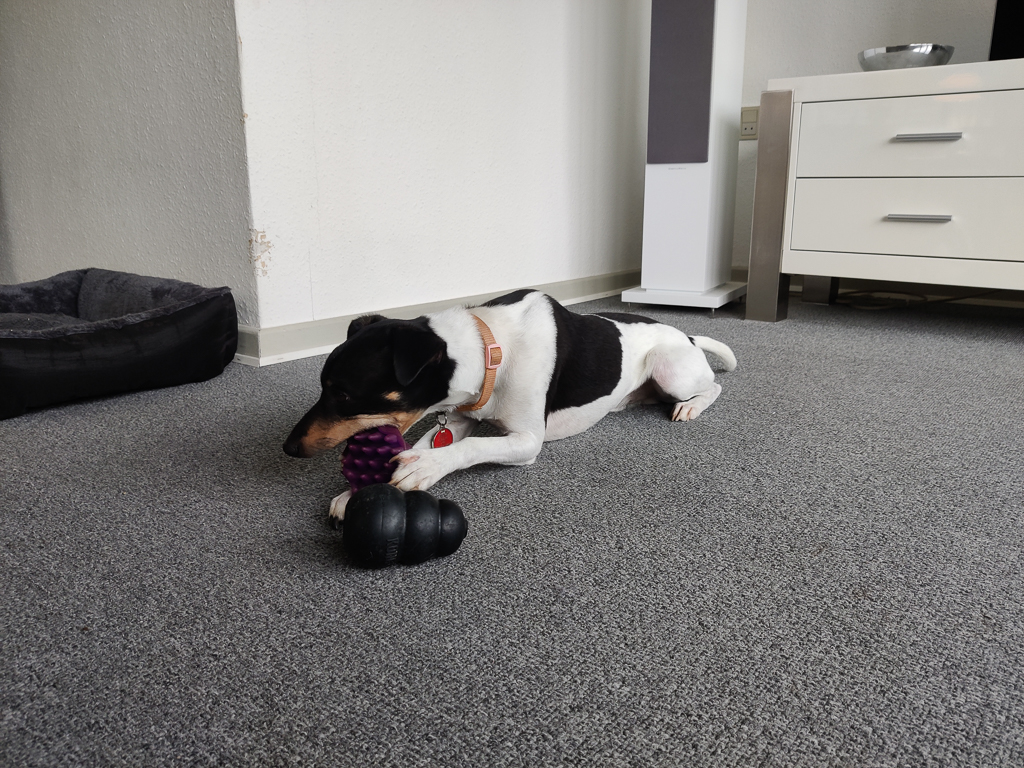Dog: (276, 261, 747, 538)
